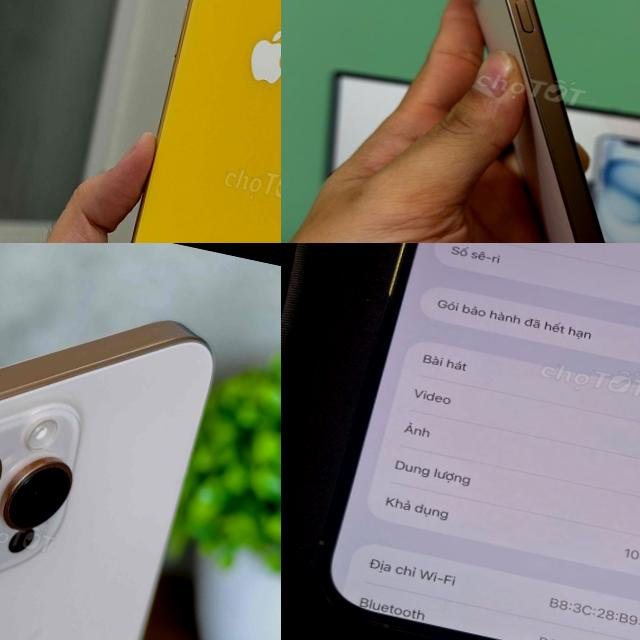gen_14: (307, 243, 640, 640)
gen_16: (0, 261, 226, 640), (469, 0, 608, 243)
gen_x_xs: (132, 0, 281, 243)
